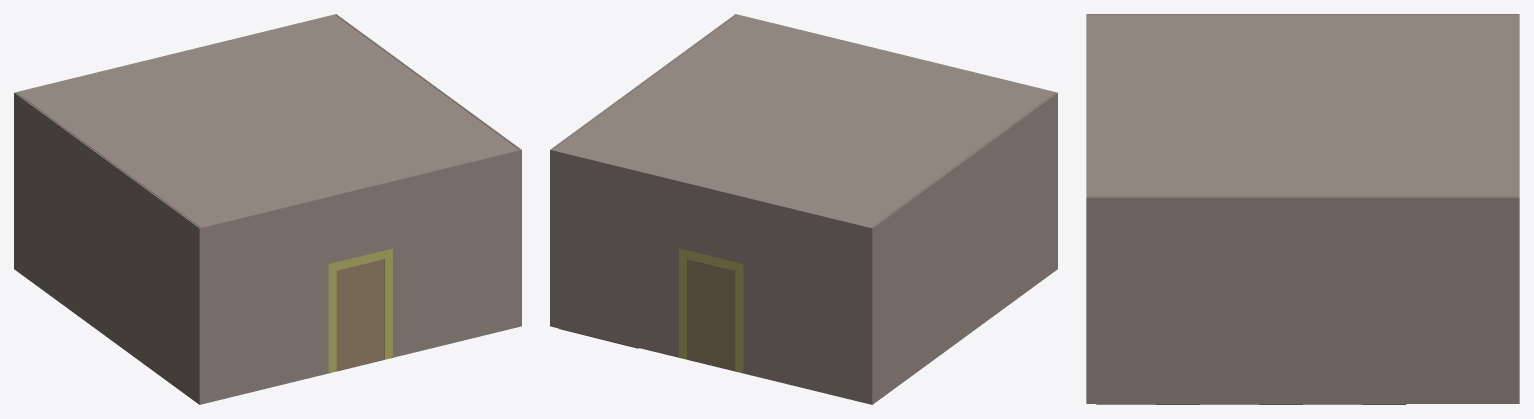
The model's file is Room30_Larder.fbx.
3 renders of one model, left to right at view 1: azimuth 30°, elevation 25°; view 2: azimuth 150°, elevation 25°; view 3: azimuth 270°, elevation 25°, orthographic. The views are drawn at different scales.
Parts seen in each view (by area): view 1: Roof, WallSlicedPosZ, WallPosX, DoorPosZ, DoorFramePosZ, WallNegX; view 2: Roof, WallSlicedNegZ, WallPosX, DoorNegZ, DoorFrameNegZ, WallNegX; view 3: WallNegX, Roof, WallPosX.
Boxes of the visible parts, x1,y1,x2,y2 form: Roof: (17, 15, 518, 227); WallSlicedPosZ: (199, 149, 521, 404); WallPosX: (14, 92, 201, 404); DoorPosZ: (336, 259, 384, 370); DoorFramePosZ: (328, 248, 392, 372); WallNegX: (336, 14, 521, 326); Roof: (553, 15, 1054, 227); WallSlicedNegZ: (550, 149, 872, 404); WallPosX: (870, 92, 1057, 404); DoorNegZ: (687, 259, 735, 370); DoorFrameNegZ: (679, 248, 743, 372); WallNegX: (550, 14, 735, 326); WallNegX: (1086, 197, 1519, 403); Roof: (1088, 15, 1517, 196); WallPosX: (1086, 14, 1519, 14).
Size of the model in its own units: 100 by 53.31 by 100.
